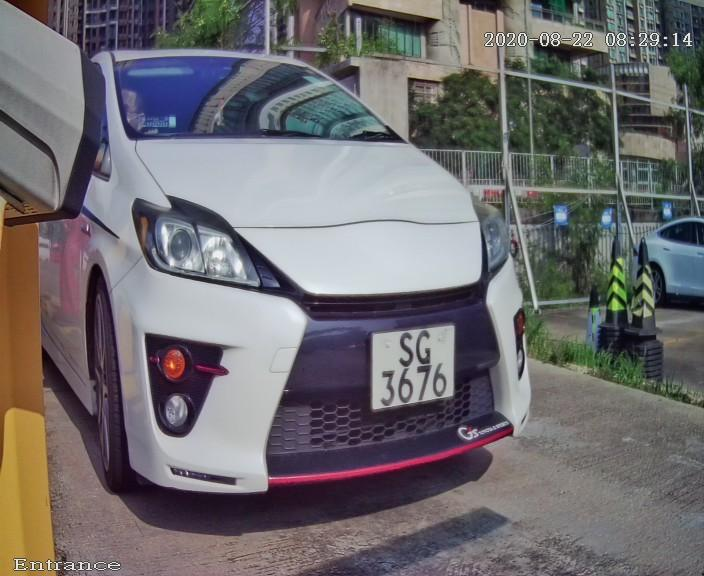License Plate: (365, 307, 463, 425)
